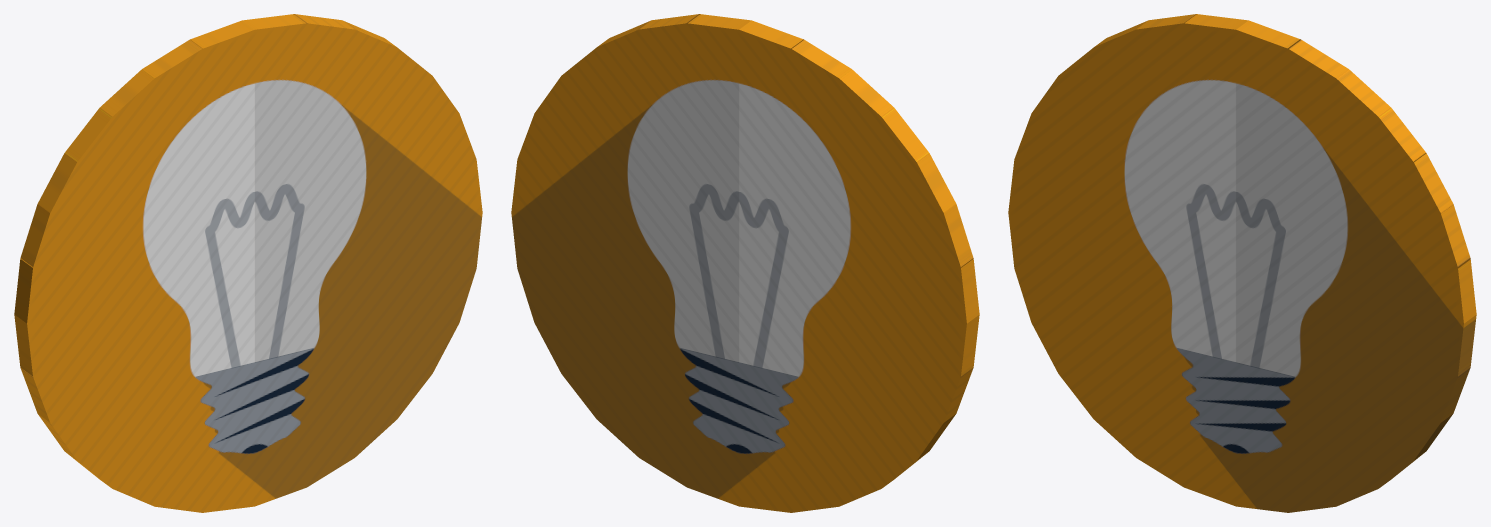
Rendered from LightBulb.FBX.
3 renders of one model, left to right at view 1: azimuth 30°, elevation 25°; view 2: azimuth 150°, elevation 25°; view 3: azimuth 330°, elevation 25°, orthographic.
Visible parts, largest first — view 1: LightBulb; view 2: LightBulb; view 3: LightBulb.
Part boxes in pixels (x1,y1,x2,y2): LightBulb: (14,14,482,512); LightBulb: (511,14,979,512); LightBulb: (1008,14,1476,512).
Bounding box in the file's own units: 39.15 × 39.15 × 1.89.
Materials: 1 (1 with a texture image).
